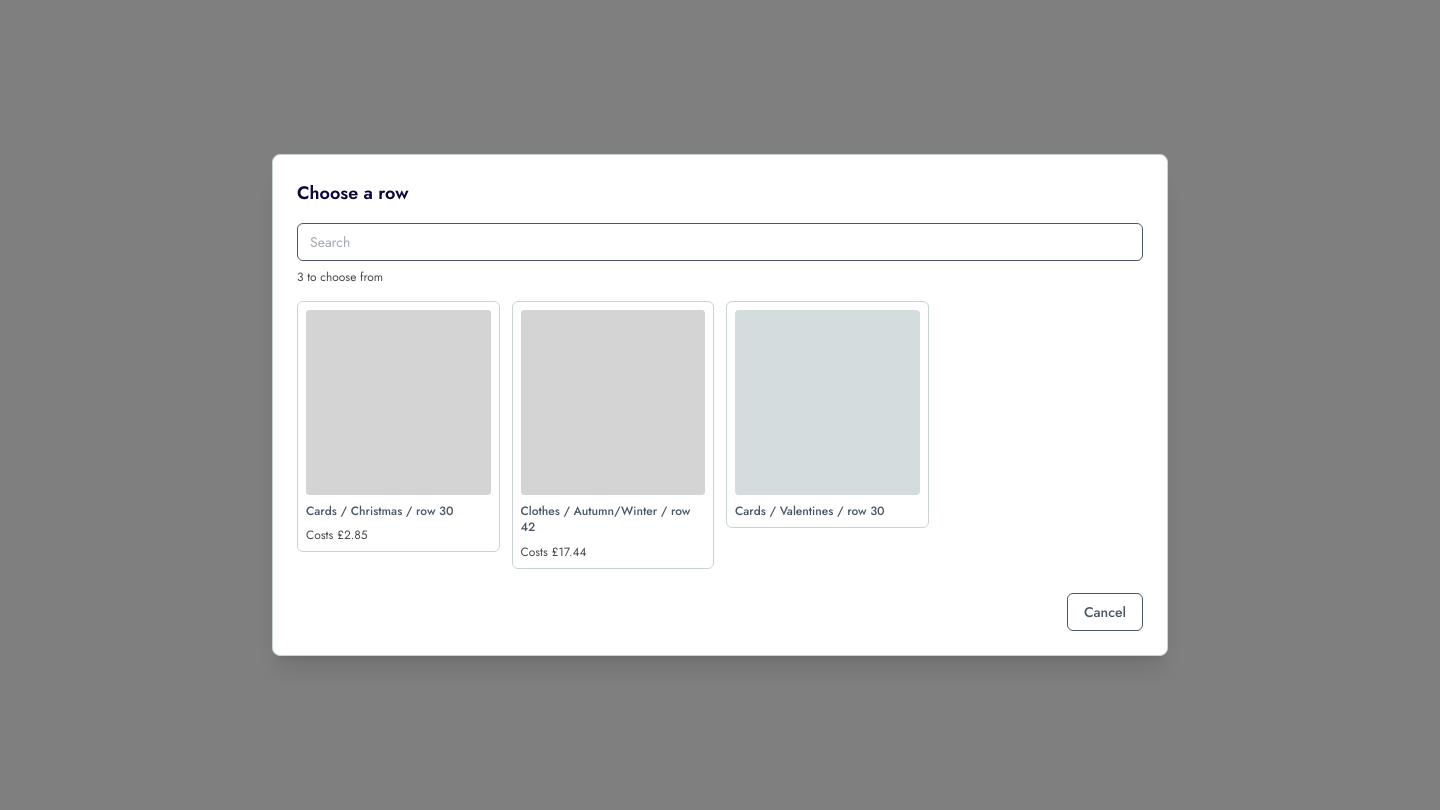
PhotoChooser › matches every word typed, in any order
This screenshot has width=1440, height=810.
Type "heart cards" into the search field at (720, 242), box [297,223,1143,261]
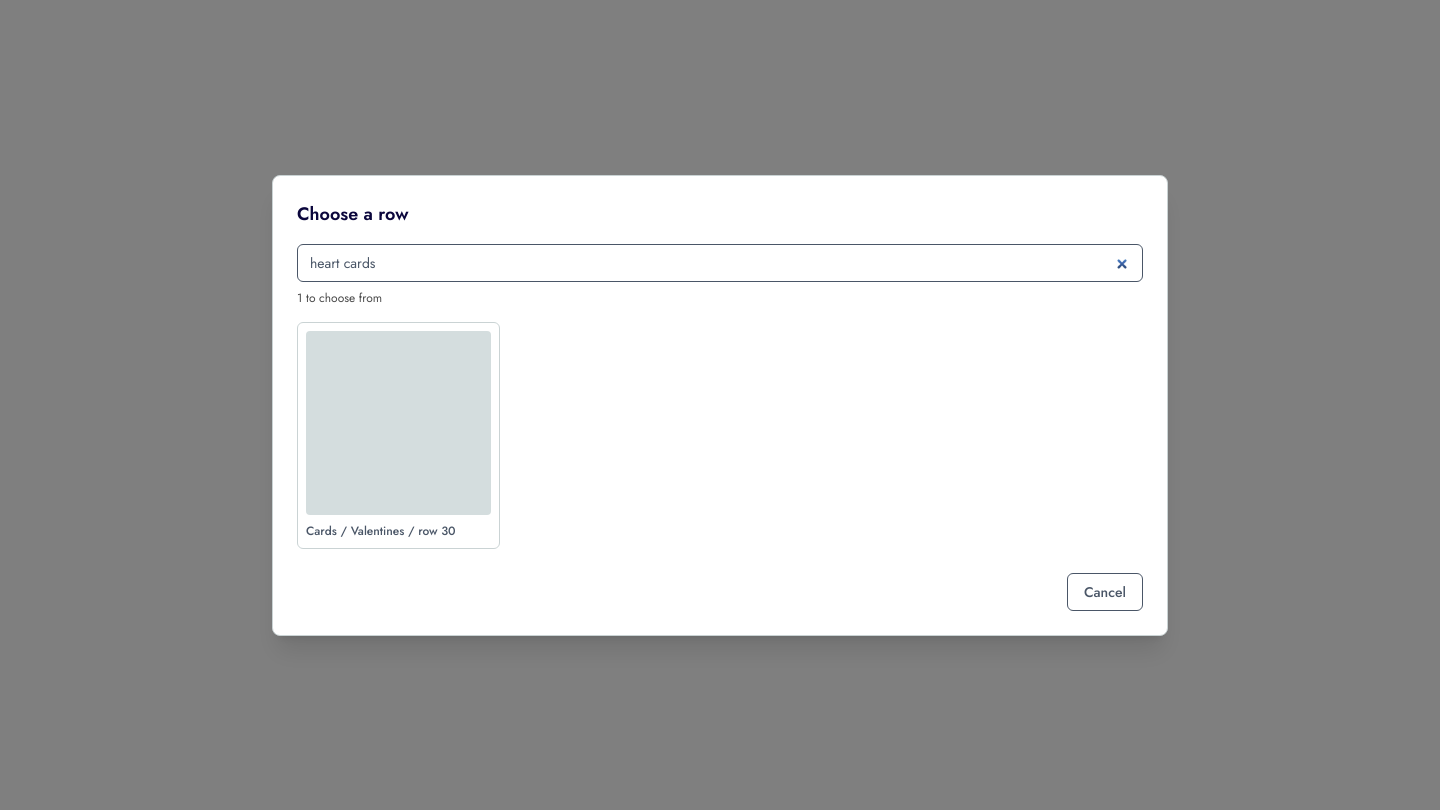
Result: the number of buttons "Cards / Valentines / row 30" is 1 at [297,322,500,548]
